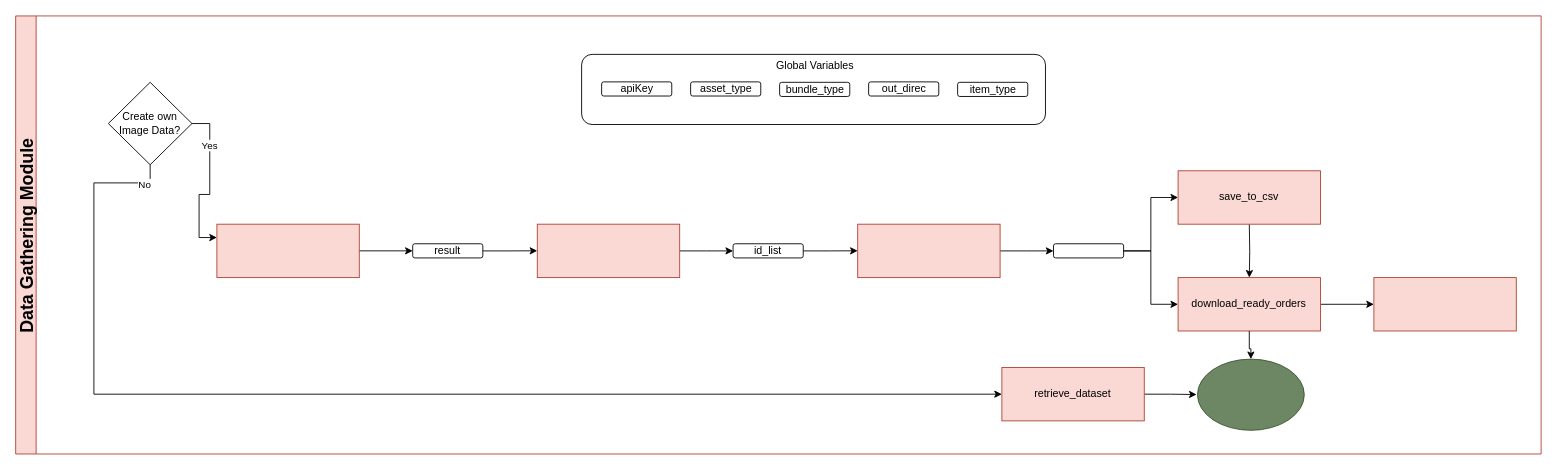
Some shapes in this 1557 by 470 pixel diagram are drawn without their labels. Each missing label, with the centre of its shape:
Image Data: (1250,394)
order_urls: (1088,250)
prep_ID_geometry_lists: (608,250)
prepare_submit_orders: (928,250)
search_API_request_object: (287,250)
show_img: (1444,304)
